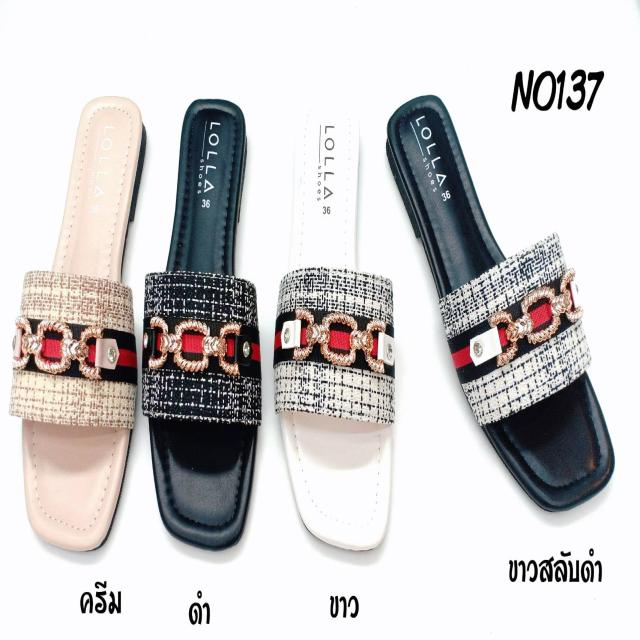black: (147, 99, 255, 550)
cream: (20, 96, 136, 547)
white: (276, 102, 393, 552)
white-black: (390, 97, 610, 510)
